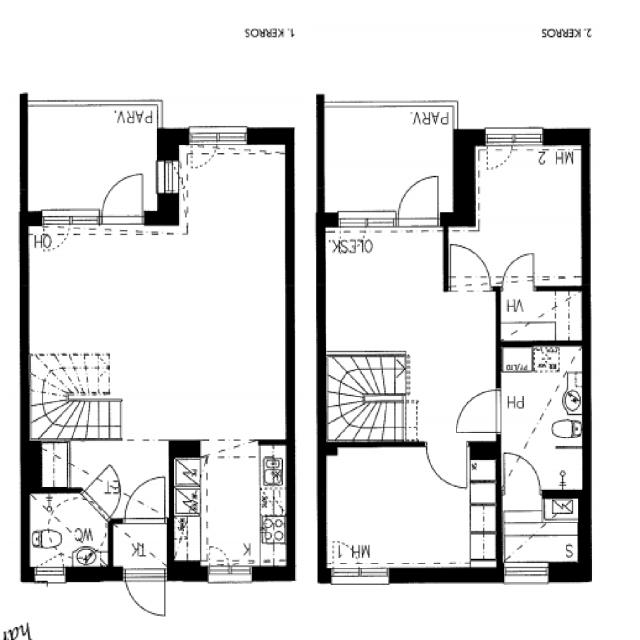door: (452, 382, 506, 438), (99, 168, 150, 223), (395, 171, 443, 223), (123, 566, 169, 618), (423, 440, 470, 490), (122, 472, 169, 519), (446, 239, 491, 282), (501, 450, 543, 494), (500, 248, 541, 288), (188, 132, 220, 171), (486, 131, 514, 171), (204, 541, 232, 573), (42, 221, 70, 252), (506, 128, 535, 156)
window: (332, 208, 398, 232), (328, 564, 394, 584), (38, 208, 104, 228), (501, 563, 553, 586), (155, 155, 180, 200), (216, 127, 252, 151), (511, 129, 546, 151), (213, 564, 257, 581), (33, 568, 68, 583)
zone: (24, 213, 289, 442), (316, 224, 510, 451), (323, 443, 498, 573), (470, 143, 585, 284), (25, 100, 162, 218), (174, 444, 289, 568), (497, 340, 587, 493), (179, 126, 293, 215), (26, 490, 109, 570), (500, 492, 583, 572), (498, 286, 586, 344)
